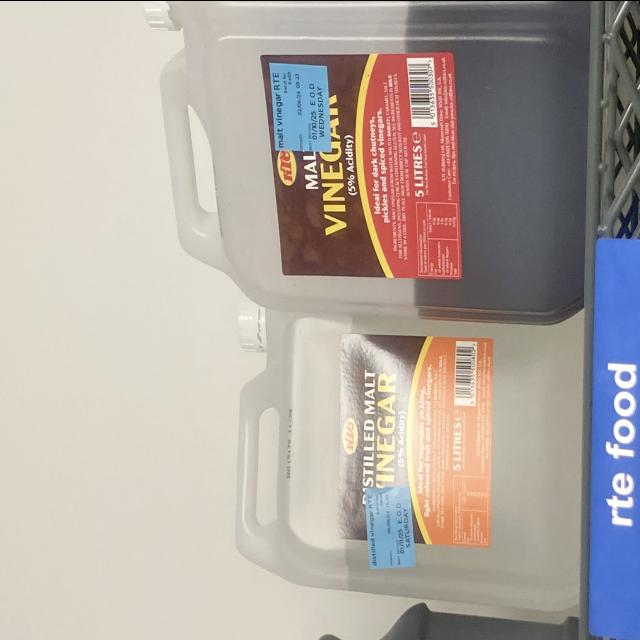product-labels: (269, 58, 333, 153), (365, 483, 414, 569)
